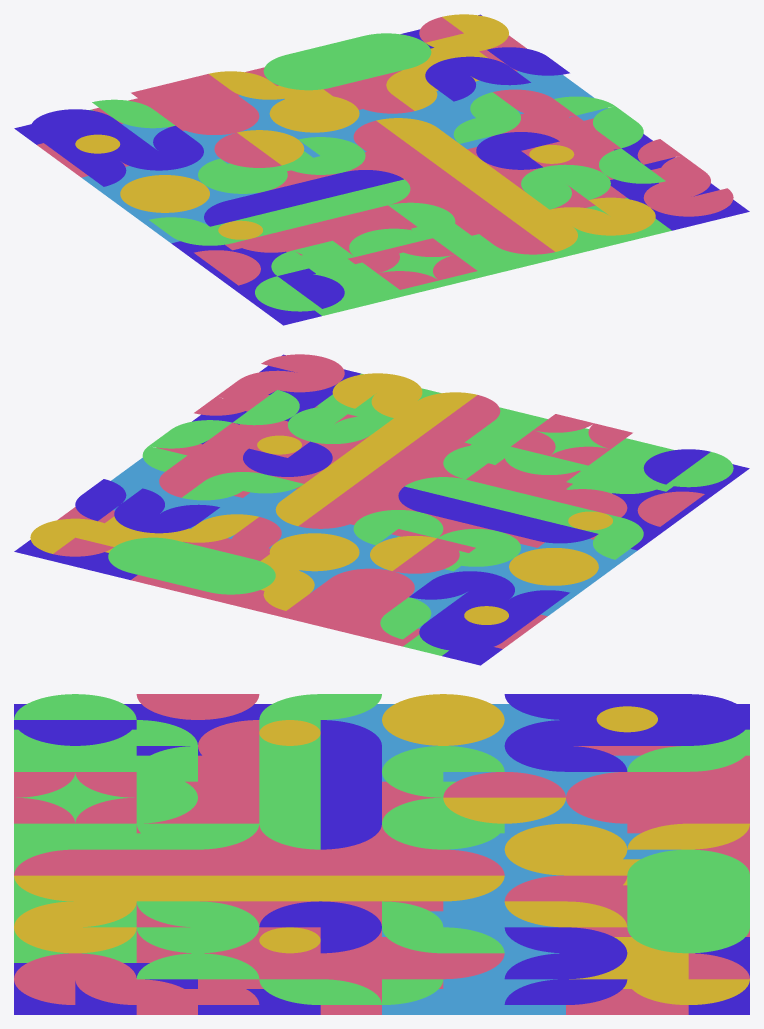
Rendered from ArtDecoCarpet.fbx.
The picture shows the model from 3 angles, top to bottom: view 1: azimuth 30°, elevation 25°; view 2: azimuth 150°, elevation 25°; view 3: azimuth 270°, elevation 25°; orthographic projection. The views are drawn at different scales.
Parts seen in each view (by area): view 1: Circle, Plane.021; view 2: Circle, Plane.021; view 3: Circle, Plane.021.
Boxes of the visible parts, x1,y1,x2,y2 form: Circle: (30,14,733,311); Plane.021: (14,14,749,325); Circle: (30,354,733,651); Plane.021: (14,354,749,665); Circle: (14,694,749,1004); Plane.021: (14,704,749,1014).
Bounding box in the file's own units: 200 × 3.13 × 200.
